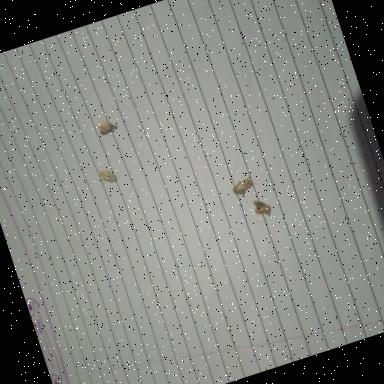pbw: (230, 176, 260, 200), (98, 169, 118, 187), (253, 202, 273, 220), (98, 124, 118, 136), (96, 119, 113, 131), (251, 196, 265, 209)
